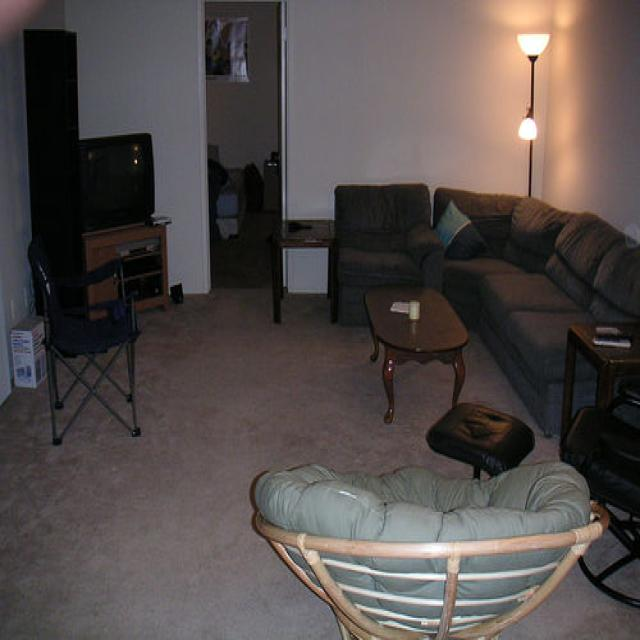Table: (358, 274, 476, 404), (564, 297, 640, 410), (267, 199, 338, 319)
chair: (250, 441, 611, 640), (436, 166, 640, 386), (21, 227, 152, 437), (555, 398, 640, 585), (333, 149, 432, 296), (423, 394, 543, 474)
